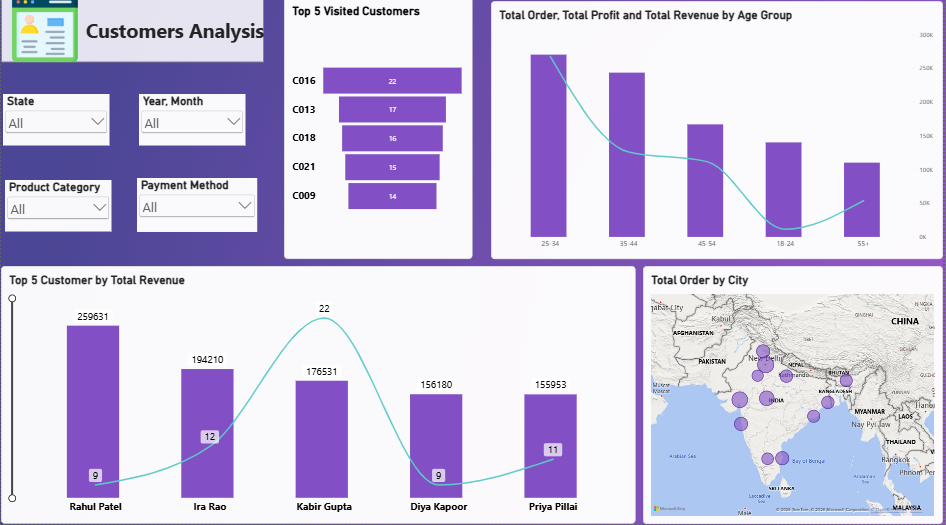

What the dashboard file says about the page in this screenshot:
{"tool":"powerbi","page":{"name":"Customer Analysis","canvas":[1920,1080],"ordinal":2},"visuals":[{"type":"lineStackedColumnComboChart","title":"Top 5 Customer by Total Revenue ","fields":{"Category":["Customers_Dim.CustomerName"],"Y":["01_DAX (2).Total Revenue"],"Y2":["01_DAX (2).Total Order"]},"box":[0,554.3,1293.4,525.4],"z":0},{"type":"funnel","title":"Top 5 Visited Customers","fields":{"Category":["CustomerRepeatition.CustomerID"],"Y":["Sum(CustomerRepeatition.No of Visited)"]},"box":[576,6.3,384,533.8],"z":1},{"type":"lineStackedColumnComboChart","title":"Total Order, Total Profit and Total Revenue by Age Group","fields":{"Category":["Customers_Dim.AgeGroup"],"Y":["01_DAX (2).Total Order"],"Y2":["01_DAX (2).Total Profit"]},"box":[998.5,14.3,921.1,525.7],"z":2},{"type":"map","title":"Total Order by City","fields":{"Category":["Customers_Dim.City"],"Size":["01_DAX (2).Total Order"]},"box":[1308.2,554.3,611.3,525.7],"z":3},{"type":"slicer","fields":{"Values":["Date_Dim.Year","Date_Dim.MonthName"]},"box":[282.2,204.7,217.3,105.5],"z":4},{"type":"slicer","fields":{"Values":["Customers_Dim.State"]},"box":[4,204.7,217.3,105.5],"z":5},{"type":"slicer","fields":{"Values":["Orders_Fact.PaymentMethod"]},"box":[277.3,374.6,244.7,109.7],"z":6},{"type":"slicer","fields":{"Values":["Products_Dim.Category"]},"box":[9.2,378.3,217.3,105.5],"z":7},{"type":"shape","title":"Sales Analysis Dashboard","box":[0,6.3,535.9,132.9],"z":8},{"type":"image","box":[0,2.1,179.3,139.3],"z":9}]}

Visuals, with their boxes in screenshot pixels (x1, y1, x2, y2), scaled from the page's 1920x1080 canvas onto the 946x525 screenshot:
"Top 5 Customer by Total Revenue " lineStackedColumnComboChart: (0, 269, 637, 524)
"Top 5 Visited Customers" funnel: (284, 3, 473, 263)
"Total Order, Total Profit and Total Revenue by Age Group" lineStackedColumnComboChart: (492, 7, 945, 262)
"Total Order by City" map: (645, 269, 945, 524)
slicer - Date_Dim.Year x Date_Dim.MonthName: (139, 100, 246, 151)
slicer - Customers_Dim.State: (2, 100, 109, 151)
slicer - Orders_Fact.PaymentMethod: (137, 182, 257, 235)
slicer - Products_Dim.Category: (5, 184, 112, 235)
"Sales Analysis Dashboard" shape: (0, 3, 264, 68)
image: (0, 1, 88, 69)
